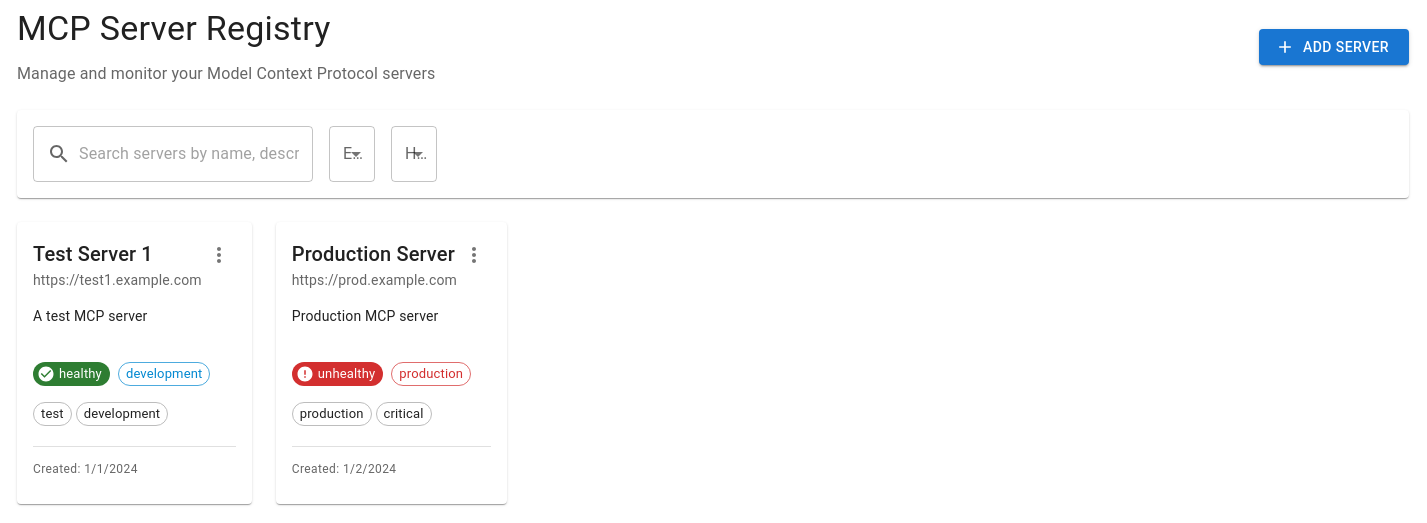
Test: RegistryPage › should filter servers by search term
The image size is (1427, 523).
Expected: the heading "Test Server 1" is shown, [33, 242, 153, 266]
Expected: the heading "Production Server" is shown, [292, 238, 457, 270]
Search for "Test"
Type "Test" into the field with placeholder "Search servers by name, description, or tags...".
click(196, 154); type("Test")  # box [79, 126, 313, 182]
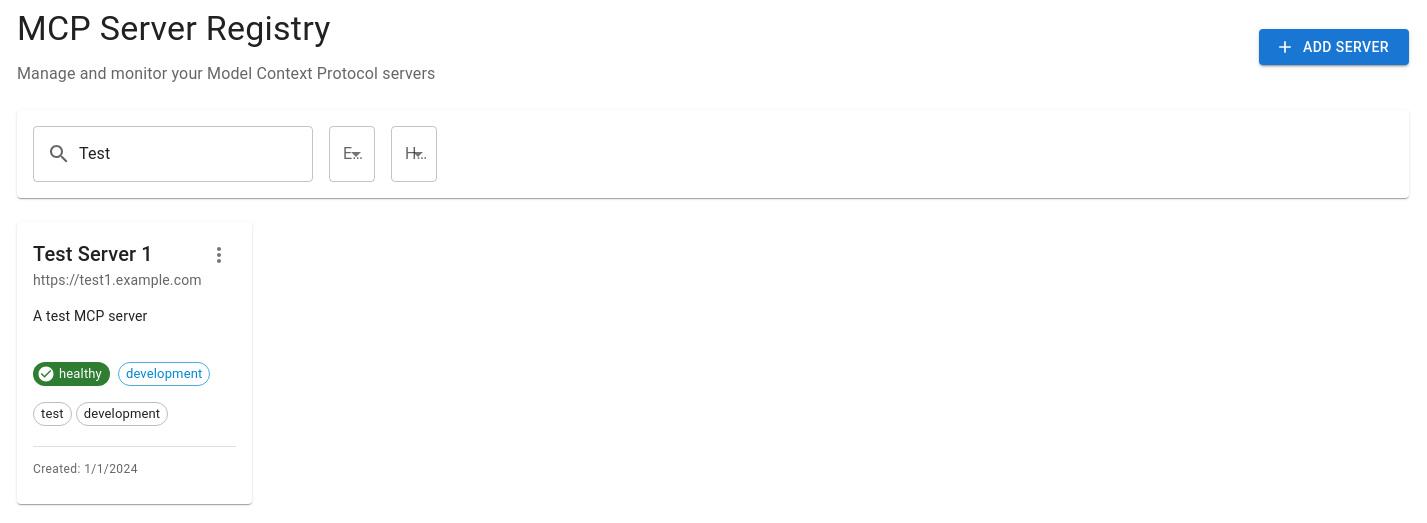
Expected: the heading "Test Server 1" is shown, [33, 242, 153, 266]
Now the heading "Production Server" is gone
